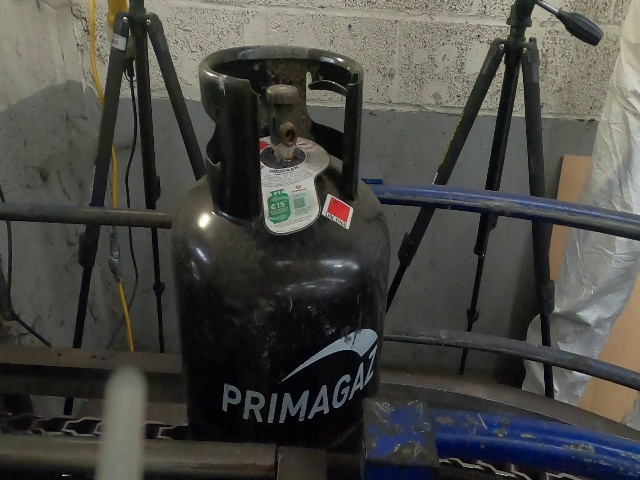gas_bottle: (0, 0, 629, 475)
